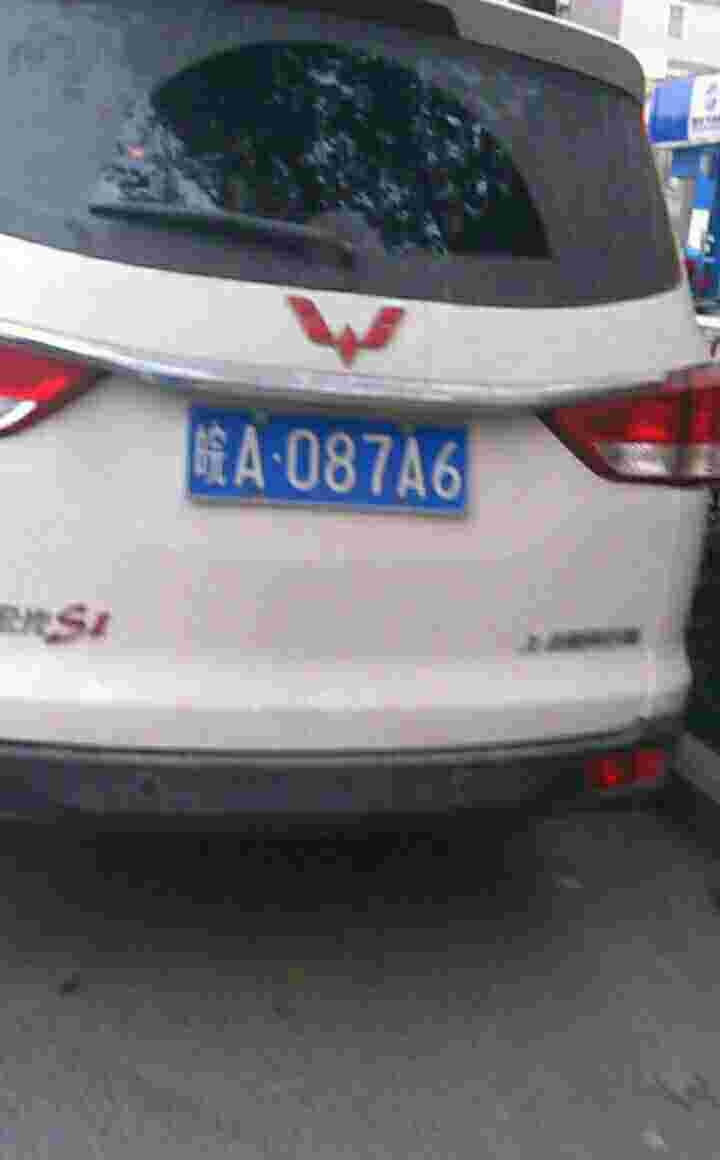license_plate: (182, 417, 468, 510)
